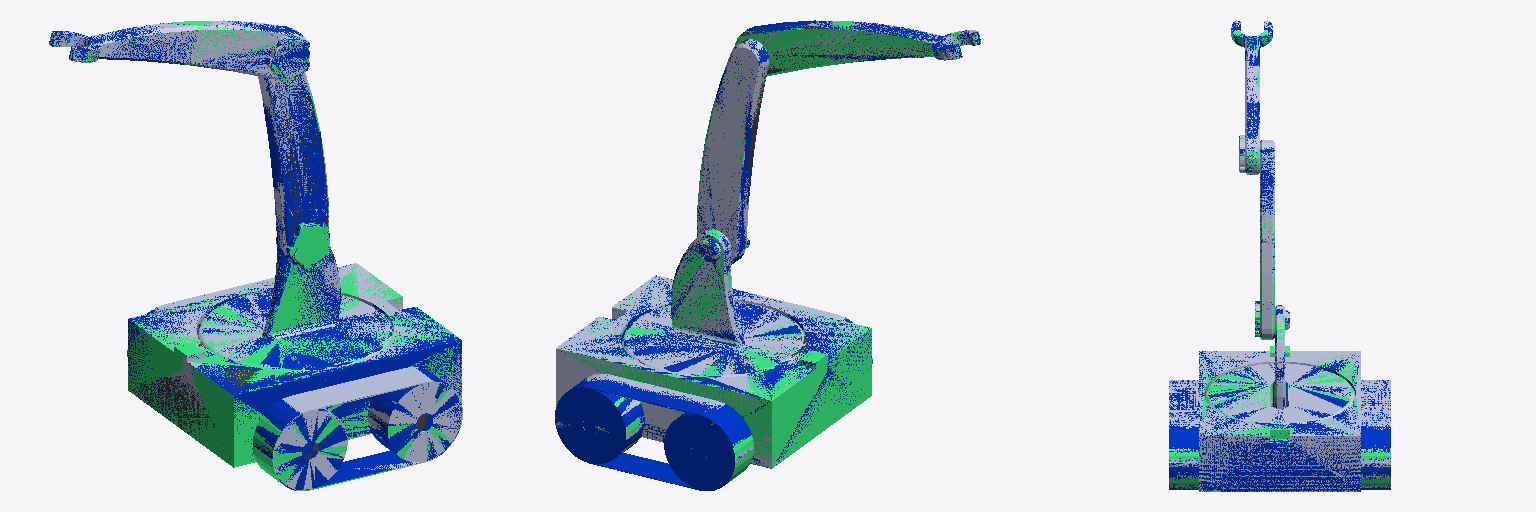
robot.urdf — ros_tracked_robot:
<?xml version="1.0" encoding="utf-8"?>
<!-- This URDF was automatically created by SolidWorks to URDF Exporter! Originally created by [author] ([email redacted]) 
     Commit Version: 1.6.0-4-g7f85cfe  Build Version: 1.6.7995.38578
     For more information, please see http://wiki.ros.org/sw_urdf_exporter -->
<robot
  name="ros_tracked_robot">
  <link
    name="base_link">
    <inertial>
      <origin
        xyz="-0.0130734817648772 0.0172872819635437 0.0297178850760488"
        rpy="0 0 0" />
      <mass
        value="1.58749693033699" />
      <inertia
        ixx="0.00418899780402248"
        ixy="-1.07515087205792E-18"
        ixz="-1.92826208193088E-20"
        iyy="0.00633806354929637"
        iyz="3.5039899816404E-19"
        izz="0.00973422182190229" />
    </inertial>
    <visual>
      <origin
        xyz="0 0 0"
        rpy="0 0 0" />
      <geometry>
        <mesh
          filename="package://ros_tracked_robot/meshes/base_link.STL" />
      </geometry>
      <material
        name="">
        <color
          rgba="0.792156862745098 0.819607843137255 0.933333333333333 1" />
      </material>
    </visual>
    <collision>
      <origin
        xyz="0 0 0"
        rpy="0 0 0" />
      <geometry>
        <mesh
          filename="package://ros_tracked_robot/meshes/base_link.STL" />
      </geometry>
    </collision>
  </link>
  <link
    name="arm0">
    <inertial>
      <origin
        xyz="0.100819450888695 0.0555700117105585 0.0799745510323959"
        rpy="0 0 0" />
      <mass
        value="0.398273847654276" />
      <inertia
        ixx="0.000634485399470533"
        ixy="-1.31159423549741E-05"
        ixz="-8.30428375685983E-09"
        iyy="0.000993302757624267"
        iyz="8.5566355998813E-07"
        izz="0.000646441398122397" />
    </inertial>
    <visual>
      <origin
        xyz="0 0 0"
        rpy="0 0 0" />
      <geometry>
        <mesh
          filename="package://ros_tracked_robot/meshes/arm0.STL" />
      </geometry>
      <material
        name="">
        <color
          rgba="0.00784313725490196 0.23921568627451 0.823529411764706 1" />
      </material>
    </visual>
    <collision>
      <origin
        xyz="0 0 0"
        rpy="0 0 0" />
      <geometry>
        <mesh
          filename="package://ros_tracked_robot/meshes/arm0.STL" />
      </geometry>
    </collision>
  </link>
  <joint
    name="arm0_joint"
    type="fixed">
    <origin
      xyz="-0.113073481764877 0.0965559838073363 0.00452339044918062"
      rpy="1.5707963267949 0 0" />
    <parent
      link="base_link" />
    <child
      link="arm0" />
    <axis
      xyz="0 0 0" />
  </joint>
  <link
    name="arm1">
    <inertial>
      <origin
        xyz="-0.00801134948793737 0.0734205789886848 0.0228148080779755"
        rpy="0 0 0" />
      <mass
        value="0.114672786058552" />
      <inertia
        ixx="0.000360258963669393"
        ixy="5.01270344280594E-05"
        ixz="-3.40778836319629E-07"
        iyy="2.34665223192783E-05"
        iyz="2.9802662221828E-06"
        izz="0.000378560990412323" />
    </inertial>
    <visual>
      <origin
        xyz="0 0 0"
        rpy="0 0 0" />
      <geometry>
        <mesh
          filename="package://ros_tracked_robot/meshes/arm1.STL" />
      </geometry>
      <material
        name="">
        <color
          rgba="0.00784313725490196 0.23921568627451 0.823529411764706 1" />
      </material>
    </visual>
    <collision>
      <origin
        xyz="0 0 0"
        rpy="0 0 0" />
      <geometry>
        <mesh
          filename="package://ros_tracked_robot/meshes/arm1.STL" />
      </geometry>
    </collision>
  </link>
  <joint
    name="arm_1_joint"
    type="revolute">
    <origin
      xyz="0.1 0.14 0.07"
      rpy="0 0 0" />
    <parent
      link="arm0" />
    <child
      link="arm1" />
    <axis
      xyz="0 0 -1" />
    <limit
      lower="0"
      upper="0"
      effort="0"
      velocity="0" />
  </joint>
  <link
    name="arm2">
    <inertial>
      <origin
        xyz="-0.0649911913065071 0.0204483388549206 -0.0121077934414411"
        rpy="0 0 0" />
      <mass
        value="0.0970492123410936" />
      <inertia
        ixx="3.40391687091534E-05"
        ixy="8.12066177243064E-05"
        ixz="-2.47379921257587E-06"
        iyy="0.000307068327502307"
        iyz="7.78336862575408E-07"
        izz="0.000334782631167878" />
    </inertial>
    <visual>
      <origin
        xyz="0 0 0"
        rpy="0 0 0" />
      <geometry>
        <mesh
          filename="package://ros_tracked_robot/meshes/arm2.STL" />
      </geometry>
      <material
        name="">
        <color
          rgba="0.00784313725490196 0.23921568627451 0.823529411764706 1" />
      </material>
    </visual>
    <collision>
      <origin
        xyz="0 0 0"
        rpy="0 0 0" />
      <geometry>
        <mesh
          filename="package://ros_tracked_robot/meshes/arm2.STL" />
      </geometry>
    </collision>
  </link>
  <joint
    name="arm_2_joint"
    type="revolute">
    <origin
      xyz="-0.0262642027796428 0.167958898699502 0.0500000000000025"
      rpy="0 0 0" />
    <parent
      link="arm1" />
    <child
      link="arm2" />
    <axis
      xyz="0 0 -1" />
    <limit
      lower="0"
      upper="0"
      effort="0"
      velocity="0" />
  </joint>
  <link
    name="imu">
    <inertial>
      <origin
        xyz="0 0.0075 0"
        rpy="0 0 0" />
      <mass
        value="0.0045" />
      <inertia
        ixx="1.6875E-07"
        ixy="3.28429327576129E-40"
        ixz="7.38019806942672E-24"
        iyy="2.34375E-07"
        iyz="3.30872245021211E-24"
        izz="2.34375E-07" />
    </inertial>
    <visual>
      <origin
        xyz="0 0 0"
        rpy="0 0 0" />
      <geometry>
        <mesh
          filename="package://ros_tracked_robot/meshes/imu.STL" />
      </geometry>
      <material
        name="">
        <color
          rgba="0.792156862745098 0.819607843137255 0.933333333333333 1" />
      </material>
    </visual>
    <collision>
      <origin
        xyz="0 0 0"
        rpy="0 0 0" />
      <geometry>
        <mesh
          filename="package://ros_tracked_robot/meshes/imu.STL" />
      </geometry>
    </collision>
  </link>
  <joint
    name="imu_joint"
    type="fixed">
    <origin
      xyz="-0.0130734817648772 0.0165559838073364 0.00452339044918062"
      rpy="1.5707963267949 0 0" />
    <parent
      link="base_link" />
    <child
      link="imu" />
    <axis
      xyz="0 0 0" />
  </joint>
  <link
    name="camera">
    <inertial>
      <origin
        xyz="0.00749999999999999 -0.0075 0"
        rpy="0 0 0" />
      <mass
        value="0.0045" />
      <inertia
        ixx="2.34375E-07"
        ixy="1.78406314515441E-24"
        ixz="3.05990652195618E-24"
        iyy="2.34375E-07"
        iyz="-4.41162993361612E-24"
        izz="1.6875E-07" />
    </inertial>
    <visual>
      <origin
        xyz="0 0 0"
        rpy="0 0 0" />
      <geometry>
        <mesh
          filename="package://ros_tracked_robot/meshes/camera.STL" />
      </geometry>
      <material
        name="">
        <color
          rgba="0.792156862745098 0.819607843137255 0.933333333333333 1" />
      </material>
    </visual>
    <collision>
      <origin
        xyz="0 0 0"
        rpy="0 0 0" />
      <geometry>
        <mesh
          filename="package://ros_tracked_robot/meshes/camera.STL" />
      </geometry>
    </collision>
  </link>
  <joint
    name="camera_joint"
    type="fixed">
    <origin
      xyz="-0.113073481764877 0.0165559838073364 0.0695233904491806"
      rpy="1.5707963267949 0 0" />
    <parent
      link="base_link" />
    <child
      link="camera" />
    <axis
      xyz="0 0 0" />
  </joint>
  <link
    name="wheel1">
    <inertial>
      <origin
        xyz="-6.93889390390723E-18 0 0.015"
        rpy="0 0 0" />
      <mass
        value="0.0942477796076938" />
      <inertia
        ixx="3.32812471739669E-05"
        ixy="-6.63981408041818E-38"
        ixz="5.29395592033942E-23"
        iyy="3.32812471739669E-05"
        iyz="-1.23977919813288E-37"
        izz="5.24253274067797E-05" />
    </inertial>
    <visual>
      <origin
        xyz="0 0 0"
        rpy="0 0 0" />
      <geometry>
        <mesh
          filename="package://ros_tracked_robot/meshes/wheel1.STL" />
      </geometry>
      <material
        name="">
        <color
          rgba="0.247058823529412 1 0.552941176470588 1" />
      </material>
    </visual>
    <collision>
      <origin
        xyz="0 0 0"
        rpy="0 0 0" />
      <geometry>
        <mesh
          filename="package://ros_tracked_robot/meshes/wheel1.STL" />
      </geometry>
    </collision>
  </link>
  <joint
    name="wheel1_joint"
    type="continuous">
    <origin
      xyz="0.0369265182351228 0.126555983807336 0.0195233904491806"
      rpy="1.5707963267949 0 0" />
    <parent
      link="base_link" />
    <child
      link="wheel1" />
    <axis
      xyz="0 0 1" />
    <limit
      lower="0"
      upper="0"
      effort="0"
      velocity="0" />
  </joint>
  <link
    name="wheel2">
    <inertial>
      <origin
        xyz="1.38777878078145E-17 0 0.015"
        rpy="0 0 0" />
      <mass
        value="0.0942477796076938" />
      <inertia
        ixx="3.32812471739669E-05"
        ixy="-6.63981408041817E-38"
        ixz="3.46543352452811E-39"
        iyy="3.32812471739669E-05"
        iyz="4.59177480789956E-39"
        izz="5.24253274067797E-05" />
    </inertial>
    <visual>
      <origin
        xyz="0 0 0"
        rpy="0 0 0" />
      <geometry>
        <mesh
          filename="package://ros_tracked_robot/meshes/wheel2.STL" />
      </geometry>
      <material
        name="">
        <color
          rgba="0.247058823529412 1 0.552941176470588 1" />
      </material>
    </visual>
    <collision>
      <origin
        xyz="0 0 0"
        rpy="0 0 0" />
      <geometry>
        <mesh
          filename="package://ros_tracked_robot/meshes/wheel2.STL" />
      </geometry>
    </collision>
  </link>
  <joint
    name="wheel2_joint"
    type="continuous">
    <origin
      xyz="-0.0630734817648772 0.126555983807336 0.0195233904491807"
      rpy="1.5707963267949 0 0" />
    <parent
      link="base_link" />
    <child
      link="wheel2" />
    <axis
      xyz="0 0 1" />
    <limit
      lower="0"
      upper="0"
      effort="0"
      velocity="0" />
  </joint>
  <link
    name="wheel3">
    <inertial>
      <origin
        xyz="2.77555756156289E-17 -1.04083408558608E-17 -0.015"
        rpy="0 0 0" />
      <mass
        value="0.0942477796076938" />
      <inertia
        ixx="3.32812471739669E-05"
        ixy="-1.23373988362284E-21"
        ixz="-1.05473006841133E-21"
        iyy="3.32812471739669E-05"
        iyz="1.42256425141682E-21"
        izz="5.24253274067797E-05" />
    </inertial>
    <visual>
      <origin
        xyz="0 0 0"
        rpy="0 0 0" />
      <geometry>
        <mesh
          filename="package://ros_tracked_robot/meshes/wheel3.STL" />
      </geometry>
      <material
        name="">
        <color
          rgba="0.247058823529412 1 0.552941176470588 1" />
      </material>
    </visual>
    <collision>
      <origin
        xyz="0 0 0"
        rpy="0 0 0" />
      <geometry>
        <mesh
          filename="package://ros_tracked_robot/meshes/wheel3.STL" />
      </geometry>
    </collision>
  </link>
  <joint
    name="wheel3_joint"
    type="continuous">
    <origin
      xyz="-0.0630734817648772 -0.0934440161926637 0.0195233904491806"
      rpy="1.5707963267949 0 0" />
    <parent
      link="base_link" />
    <child
      link="wheel3" />
    <axis
      xyz="0 0 1" />
    <limit
      lower="0"
      upper="0"
      effort="0"
      velocity="0" />
  </joint>
  <link
    name="wheel4">
    <inertial>
      <origin
        xyz="0 -2.42861286636753E-17 -0.015"
        rpy="0 0 0" />
      <mass
        value="0.0942477796076938" />
      <inertia
        ixx="3.32812471739669E-05"
        ixy="-3.01900244066541E-21"
        ixz="2.09643985629254E-21"
        iyy="3.32812471739669E-05"
        iyz="-4.38169073862894E-22"
        izz="5.24253274067797E-05" />
    </inertial>
    <visual>
      <origin
        xyz="0 0 0"
        rpy="0 0 0" />
      <geometry>
        <mesh
          filename="package://ros_tracked_robot/meshes/wheel4.STL" />
      </geometry>
      <material
        name="">
        <color
          rgba="0.247058823529412 1 0.552941176470588 1" />
      </material>
    </visual>
    <collision>
      <origin
        xyz="0 0 0"
        rpy="0 0 0" />
      <geometry>
        <mesh
          filename="package://ros_tracked_robot/meshes/wheel4.STL" />
      </geometry>
    </collision>
  </link>
  <joint
    name="wheel4_joint"
    type="continuous">
    <origin
      xyz="0.0369265182351228 -0.0934440161926637 0.0195233904491807"
      rpy="1.5707963267949 0 0" />
    <parent
      link="base_link" />
    <child
      link="wheel4" />
    <axis
      xyz="0 0 1" />
    <limit
      lower="0"
      upper="0"
      effort="0"
      velocity="0" />
  </joint>
  <link
    name="tracked_right">
    <inertial>
      <origin
        xyz="0.0130734817648773 0.0195233904491807 5.55111512312578E-17"
        rpy="0 0 0" />
      <mass
        value="0.0122203534541079" />
      <inertia
        ixx="1.08387865090016E-05"
        ixy="-8.12146361841305E-21"
        ixz="6.43003679289267E-21"
        iyy="3.79241701442714E-05"
        iyz="9.95201674477883E-22"
        izz="4.69299036351568E-05" />
    </inertial>
    <visual>
      <origin
        xyz="0 0 0"
        rpy="0 0 0" />
      <geometry>
        <mesh
          filename="package://ros_tracked_robot/meshes/tracked_right.STL" />
      </geometry>
      <material
        name="">
        <color
          rgba="0.298039215686275 0.298039215686275 0.298039215686275 1" />
      </material>
    </visual>
    <collision>
      <origin
        xyz="0 0 0"
        rpy="0 0 0" />
      <geometry>
        <mesh
          filename="package://ros_tracked_robot/meshes/tracked_right.STL" />
      </geometry>
    </collision>
  </link>
  <joint
    name="tracked_right_joint"
    type="fixed">
    <origin
      xyz="0 0.111555983807336 0"
      rpy="1.5707963267949 0 3.14159265358979" />
    <parent
      link="base_link" />
    <child
      link="tracked_right" />
    <axis
      xyz="0 0 0" />
  </joint>
  <link
    name="tracked_left">
    <inertial>
      <origin
        xyz="0.0130734817648773 0.0195233904491807 -8.32667268468867E-17"
        rpy="0 0 0" />
      <mass
        value="0.0122203534541079" />
      <inertia
        ixx="1.08387865090016E-05"
        ixy="2.31692279908195E-20"
        ixz="-3.68353866527529E-22"
        iyy="3.79241701442713E-05"
        iyz="-2.92158725167476E-21"
        izz="4.69299036351567E-05" />
    </inertial>
    <visual>
      <origin
        xyz="0 0 0"
        rpy="0 0 0" />
      <geometry>
        <mesh
          filename="package://ros_tracked_robot/meshes/tracked_left.STL" />
      </geometry>
      <material
        name="">
        <color
          rgba="0.298039215686275 0.298039215686275 0.298039215686275 1" />
      </material>
    </visual>
    <collision>
      <origin
        xyz="0 0 0"
        rpy="0 0 0" />
      <geometry>
        <mesh
          filename="package://ros_tracked_robot/meshes/tracked_left.STL" />
      </geometry>
    </collision>
  </link>
  <joint
    name="tracked_left_joint"
    type="fixed">
    <origin
      xyz="0 -0.0784440161926636 0"
      rpy="1.5707963267949 0 3.14159265358979" />
    <parent
      link="base_link" />
    <child
      link="tracked_left" />
    <axis
      xyz="0 0 0" />
  </joint>
</robot>

--- Render facts (derived) ---
The picture shows the robot from 3 angles, left to right: view 1: azimuth 30°, elevation 25°; view 2: azimuth 150°, elevation 25°; view 3: azimuth 270°, elevation 25°; orthographic projection.
Robot: ros_tracked_robot — 12 links, 11 joints (2 revolute, 4 continuous, 5 fixed); root link base_link; default pose: every joint at zero.
Visible links, largest first — view 1: base_link, arm2, arm0, wheel1, wheel3, arm1, wheel4, tracked_left, wheel2, camera, tracked_right; view 2: base_link, wheel1, arm2, arm0, imu, wheel2, arm1, camera, wheel3, tracked_left, tracked_right; view 3: base_link, arm2, arm0, wheel2, wheel1, arm1.
Link boxes in pixels (x1=…): base_link: x1=49, y1=20, x2=462, y2=490; arm2: x1=59, y1=33, x2=461, y2=490; arm0: x1=52, y1=21, x2=453, y2=489; wheel1: x1=52, y1=21, x2=456, y2=483; wheel3: x1=68, y1=21, x2=462, y2=490; arm1: x1=49, y1=23, x2=460, y2=486; wheel4: x1=59, y1=21, x2=458, y2=486; tracked_left: x1=66, y1=39, x2=428, y2=458; wheel2: x1=50, y1=27, x2=449, y2=378; camera: x1=54, y1=29, x2=435, y2=488; tracked_right: x1=74, y1=25, x2=327, y2=331; base_link: x1=555, y1=21, x2=978, y2=484; wheel1: x1=562, y1=21, x2=978, y2=482; arm2: x1=555, y1=28, x2=973, y2=490; arm0: x1=556, y1=20, x2=980, y2=468; imu: x1=676, y1=25, x2=980, y2=316; wheel2: x1=584, y1=22, x2=978, y2=432; arm1: x1=591, y1=23, x2=980, y2=478; camera: x1=628, y1=30, x2=975, y2=346; wheel3: x1=564, y1=28, x2=977, y2=466; tracked_left: x1=651, y1=25, x2=943, y2=373; tracked_right: x1=623, y1=21, x2=976, y2=397; base_link: x1=1169, y1=20, x2=1390, y2=491; arm2: x1=1169, y1=30, x2=1390, y2=491; arm0: x1=1169, y1=21, x2=1354, y2=486; wheel2: x1=1169, y1=45, x2=1390, y2=486; wheel1: x1=1169, y1=25, x2=1359, y2=488; arm1: x1=1169, y1=136, x2=1390, y2=488.
Bounding box of the posed robot: 0.3221 × 0.22 × 0.3826 m (x, y, z).
Meshes: 12 distinct files referenced, 12 mesh visuals loaded (12 binary STL).